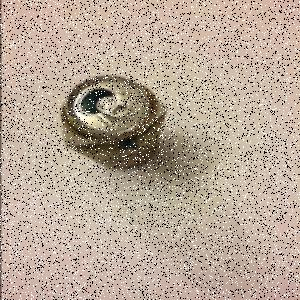Can: (60, 75, 170, 173)
